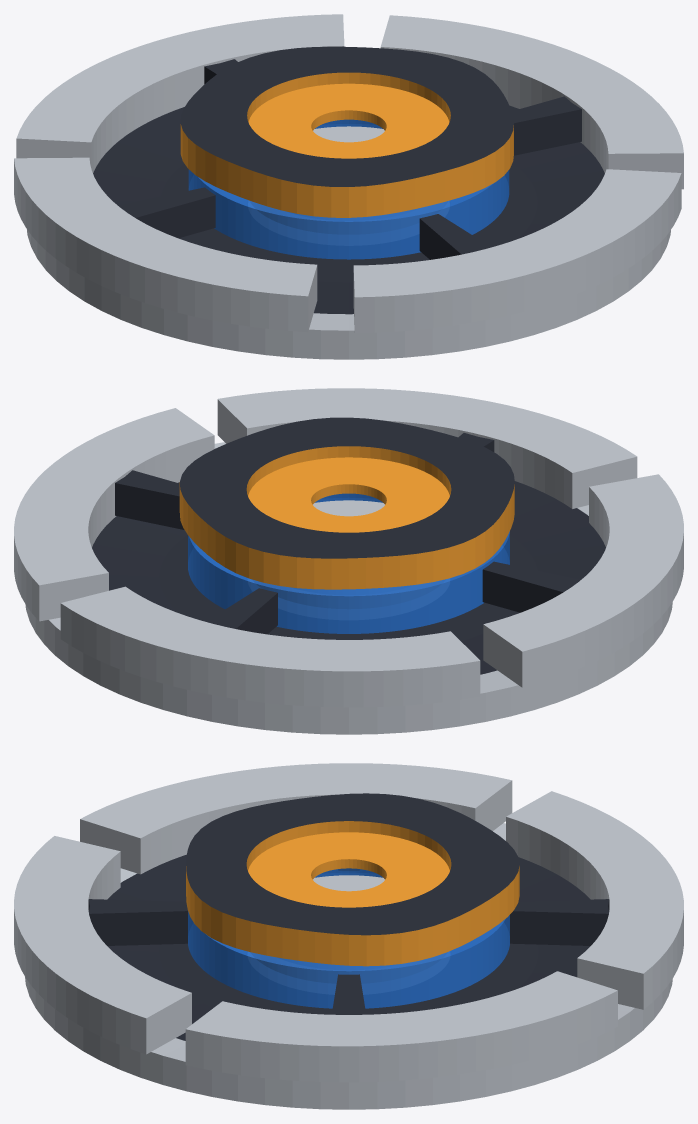
File: assembly_phase2a_orbit_halo.glb
The picture shows the model from 3 angles, top to bottom: view 1: azimuth 30°, elevation 25°; view 2: azimuth 150°, elevation 25°; view 3: azimuth 270°, elevation 25°; orthographic projection.
Visible parts, largest first — view 1: GEO_core_solar_wolf_BODY, GEO_assist_heavy_BODY, GEO_blade_orbit_halo_RING_4, GEO_blade_orbit_halo_RING_3, GEO_blade_orbit_halo_RING_2, GEO_blade_orbit_halo_RING_1, GEO_blade_orbit_halo_HUB, GEO_core_solar_wolf_NSS_V1_COLLAR, GEO_blade_orbit_halo_SPOKE_3, GEO_blade_orbit_halo_SPOKE_1, GEO_blade_orbit_halo_SPOKE_4, GEO_blade_orbit_halo_NSS_V1_COLLAR; view 2: GEO_core_solar_wolf_BODY, GEO_assist_heavy_BODY, GEO_blade_orbit_halo_RING_2, GEO_blade_orbit_halo_RING_3, GEO_blade_orbit_halo_RING_4, GEO_blade_orbit_halo_RING_1, GEO_blade_orbit_halo_HUB, GEO_core_solar_wolf_NSS_V1_COLLAR, GEO_blade_orbit_halo_SPOKE_3, GEO_blade_orbit_halo_SPOKE_1, GEO_blade_orbit_halo_SPOKE_2, GEO_blade_orbit_halo_NSS_V1_COLLAR; view 3: GEO_core_solar_wolf_BODY, GEO_assist_heavy_BODY, GEO_blade_orbit_halo_RING_1, GEO_blade_orbit_halo_RING_4, GEO_blade_orbit_halo_RING_2, GEO_blade_orbit_halo_RING_3, GEO_blade_orbit_halo_HUB, GEO_core_solar_wolf_NSS_V1_COLLAR, GEO_blade_orbit_halo_SPOKE_4, GEO_blade_orbit_halo_SPOKE_2, GEO_blade_orbit_halo_SPOKE_1, GEO_blade_orbit_halo_NSS_V1_COLLAR.
Boxes of the visible parts, box(x1,y1,x2,y2) form: GEO_core_solar_wolf_BODY: box(180, 46, 513, 217); GEO_assist_heavy_BODY: box(27, 106, 670, 359); GEO_blade_orbit_halo_RING_4: box(353, 169, 681, 333); GEO_blade_orbit_halo_RING_3: box(14, 157, 317, 332); GEO_blade_orbit_halo_RING_2: box(16, 14, 344, 172); GEO_blade_orbit_halo_RING_1: box(380, 15, 683, 189); GEO_blade_orbit_halo_HUB: box(188, 119, 509, 259); GEO_core_solar_wolf_NSS_V1_COLLAR: box(248, 83, 449, 158); GEO_blade_orbit_halo_SPOKE_3: box(118, 187, 215, 238); GEO_blade_orbit_halo_SPOKE_1: box(511, 96, 581, 155); GEO_blade_orbit_halo_SPOKE_4: box(419, 214, 491, 259); GEO_blade_orbit_halo_NSS_V1_COLLAR: box(313, 126, 384, 142); GEO_core_solar_wolf_BODY: box(179, 417, 514, 589); GEO_assist_heavy_BODY: box(25, 442, 672, 734); GEO_blade_orbit_halo_RING_2: box(60, 586, 480, 707); GEO_blade_orbit_halo_RING_3: box(483, 474, 683, 687); GEO_blade_orbit_halo_RING_4: box(217, 388, 637, 508); GEO_blade_orbit_halo_RING_1: box(14, 408, 214, 621); GEO_blade_orbit_halo_HUB: box(188, 493, 509, 633); GEO_core_solar_wolf_NSS_V1_COLLAR: box(248, 457, 449, 532); GEO_blade_orbit_halo_SPOKE_3: box(482, 561, 580, 612); GEO_blade_orbit_halo_SPOKE_1: box(115, 470, 184, 529); GEO_blade_orbit_halo_SPOKE_2: box(206, 588, 277, 634); GEO_blade_orbit_halo_NSS_V1_COLLAR: box(313, 500, 384, 516); GEO_core_solar_wolf_BODY: box(186, 793, 519, 966); GEO_assist_heavy_BODY: box(25, 823, 672, 1109); GEO_blade_orbit_halo_RING_1: box(185, 971, 617, 1082); GEO_blade_orbit_halo_RING_4: box(14, 836, 191, 1054); GEO_blade_orbit_halo_RING_2: box(506, 791, 683, 1009); GEO_blade_orbit_halo_RING_3: box(80, 763, 512, 874); GEO_blade_orbit_halo_HUB: box(188, 868, 509, 1008); GEO_core_solar_wolf_NSS_V1_COLLAR: box(248, 832, 449, 907); GEO_blade_orbit_halo_SPOKE_4: box(88, 899, 187, 945); GEO_blade_orbit_halo_SPOKE_2: box(510, 899, 609, 945); GEO_blade_orbit_halo_SPOKE_1: box(331, 974, 366, 1014); GEO_blade_orbit_halo_NSS_V1_COLLAR: box(313, 875, 384, 891).
Bounding box in the file's own units: 0.0706 × 0.0236 × 0.0706.
